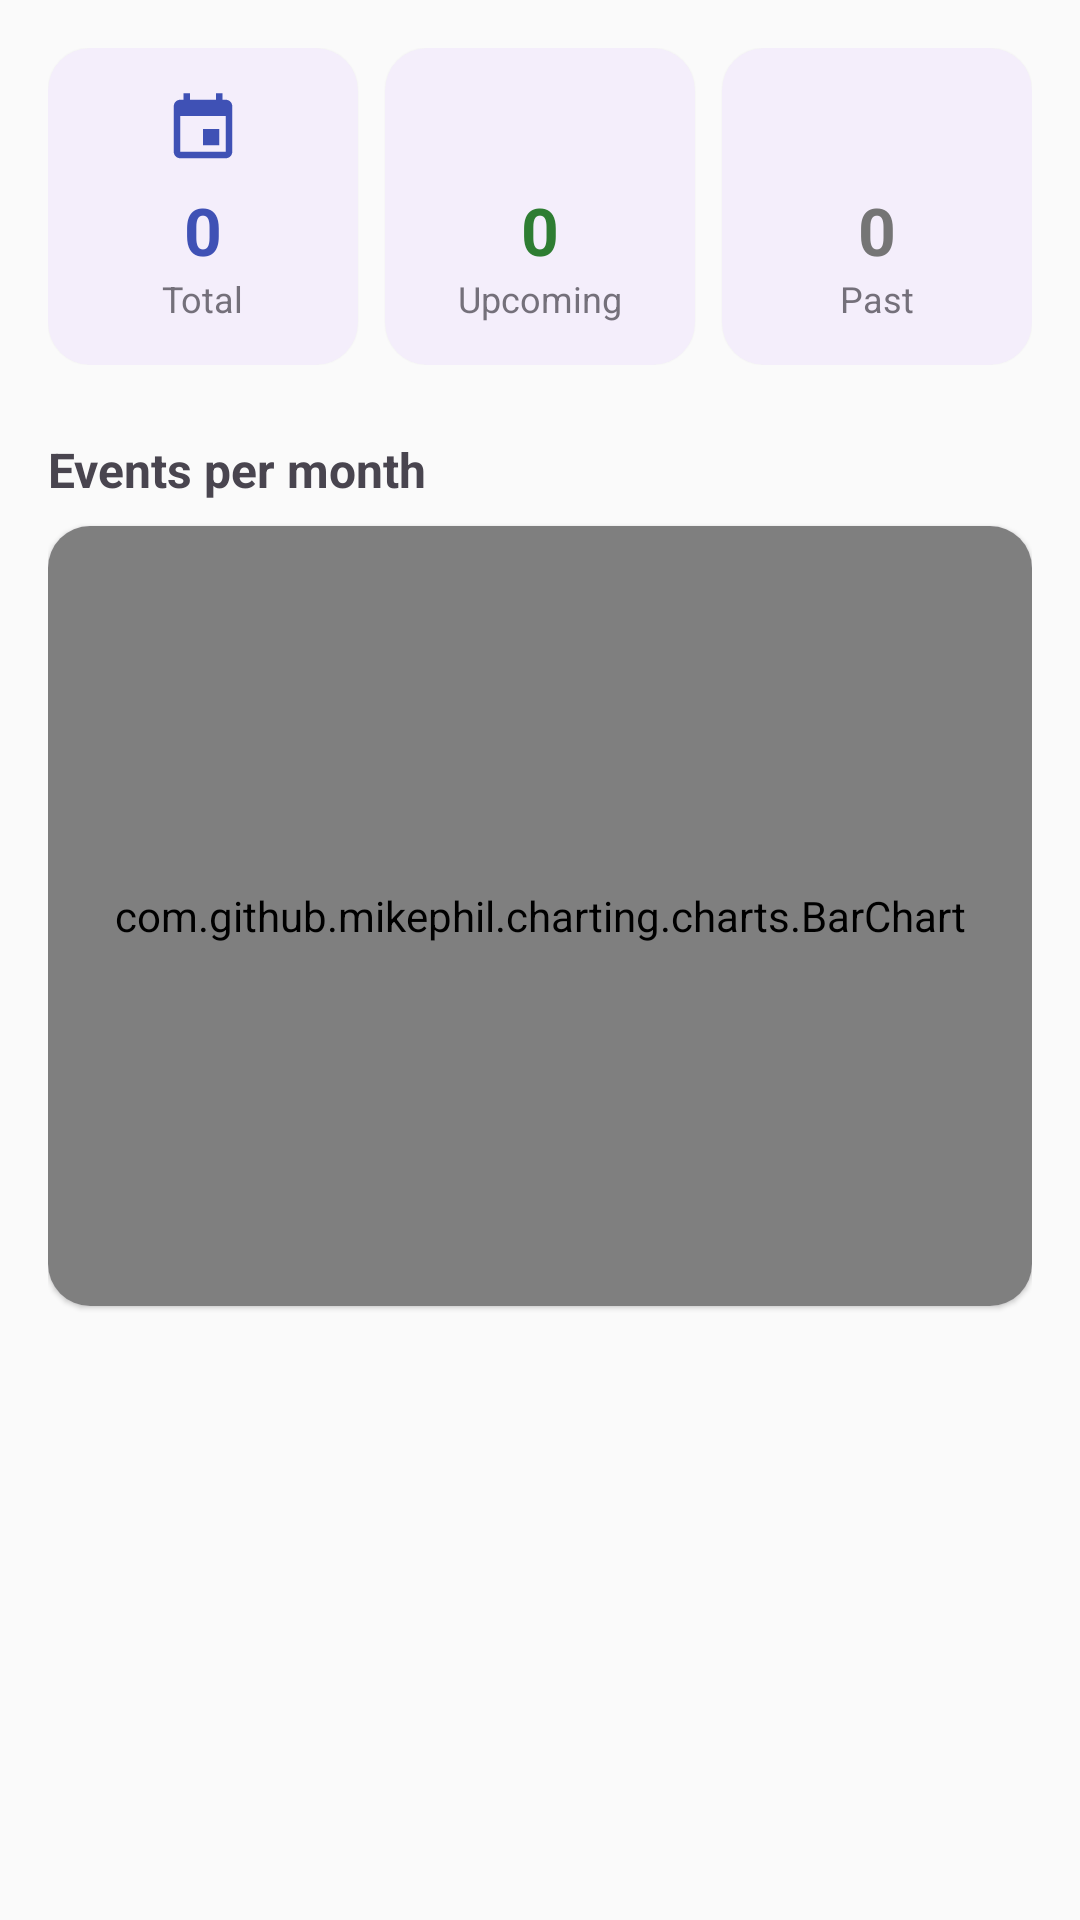

Point at icon controls on the screen. Image size 1080 × 1920, points as [x,y].
event stat: [203,126]
